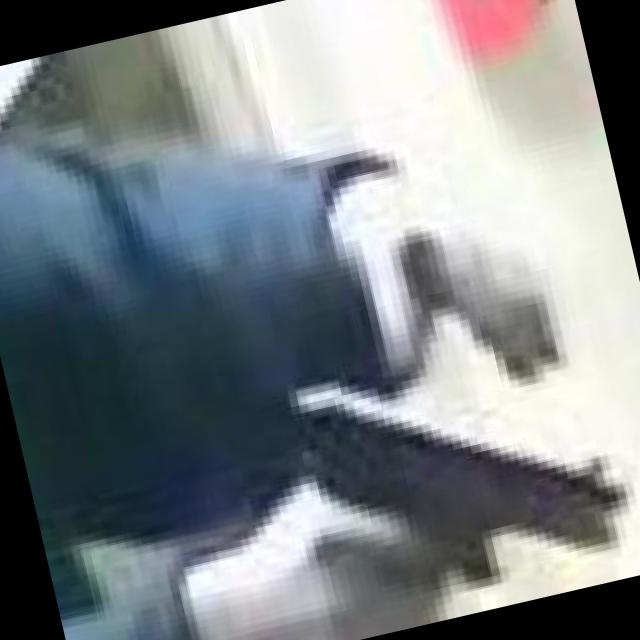Guns: (245, 297, 640, 640)
